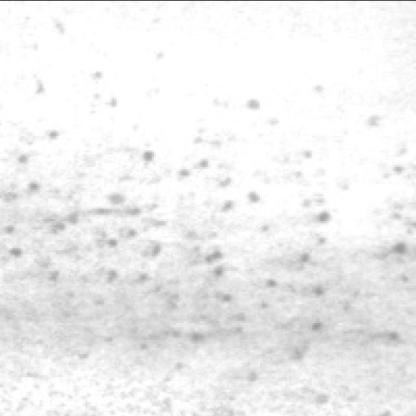pitted_surface: (23, 118, 416, 362)
